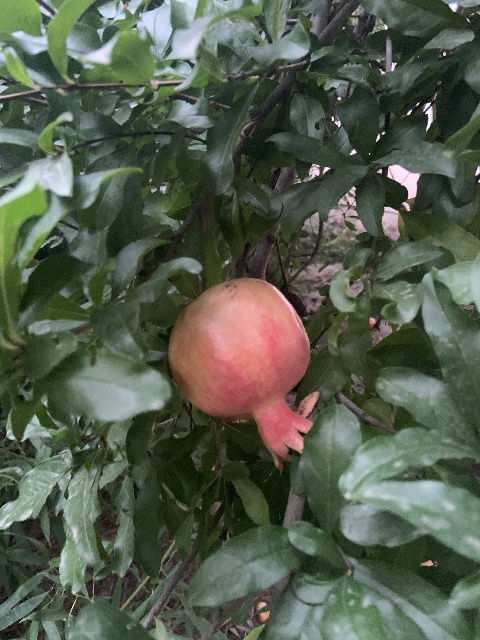ripe: (167, 276, 319, 469)
